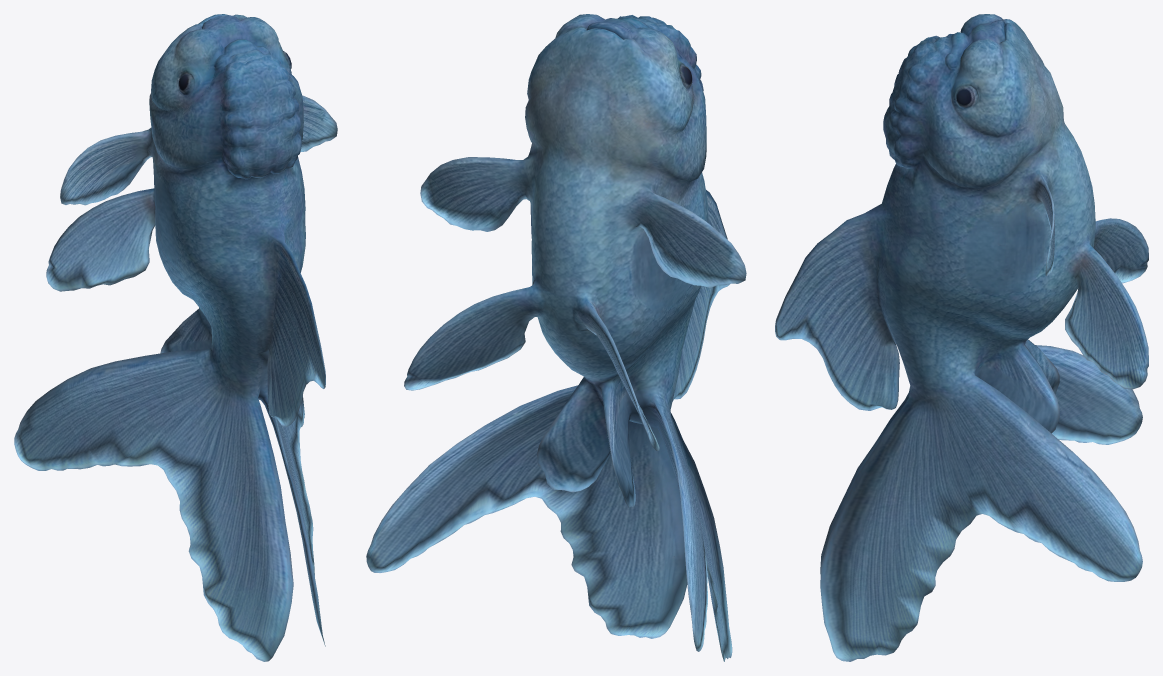
Rendered from oranda-base-cut.glb.
3 renders of one model, left to right at view 1: azimuth 30°, elevation 25°; view 2: azimuth 150°, elevation 25°; view 3: azimuth 270°, elevation 25°, orthographic. The views are drawn at different scales.
Parts seen in each view (by area): view 1: fish; view 2: fish; view 3: fish.
Boxes of the visible parts, x1,y1,x2,y2 form: fish: (14,14,337,661); fish: (366,14,746,661); fish: (775,14,1148,661).
Size of the model in its own units: 0.4998 by 1 by 0.5457.
1 material, 1 textured.
